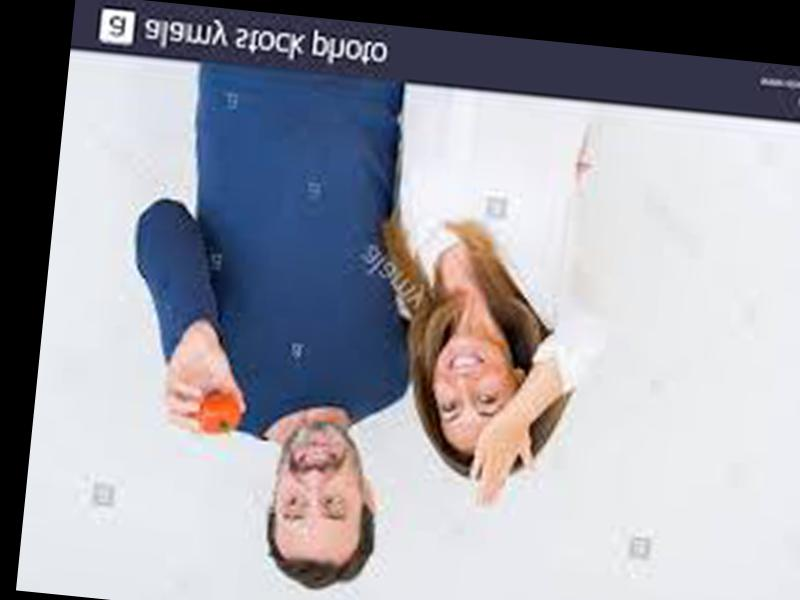Tomato: (197, 393, 241, 440)
